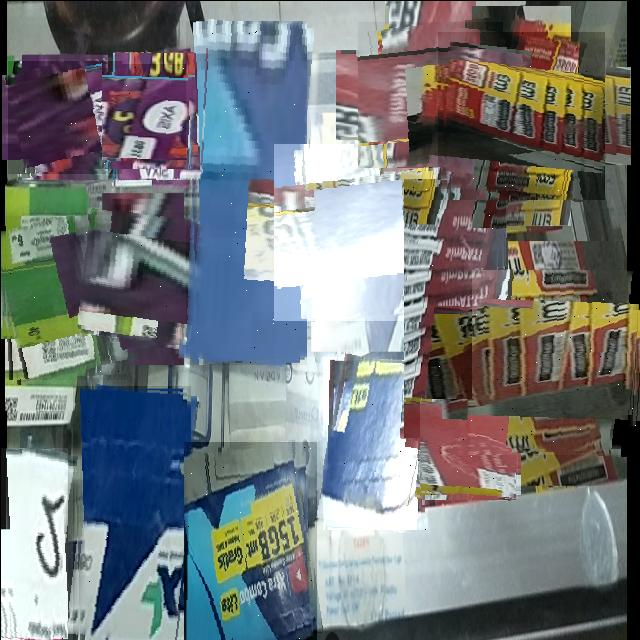Axis: (74, 211, 210, 347), (7, 60, 121, 173), (101, 63, 205, 168)
Gratis Nelpon: (185, 20, 306, 364), (273, 143, 449, 320), (72, 385, 190, 640), (183, 441, 316, 640), (322, 356, 427, 529)
Indosat-3: (0, 215, 127, 379), (0, 447, 67, 640)
SimpaTI: (403, 178, 505, 437), (357, 21, 502, 167), (420, 398, 520, 498)
im3: (471, 269, 640, 454), (437, 31, 604, 199)
